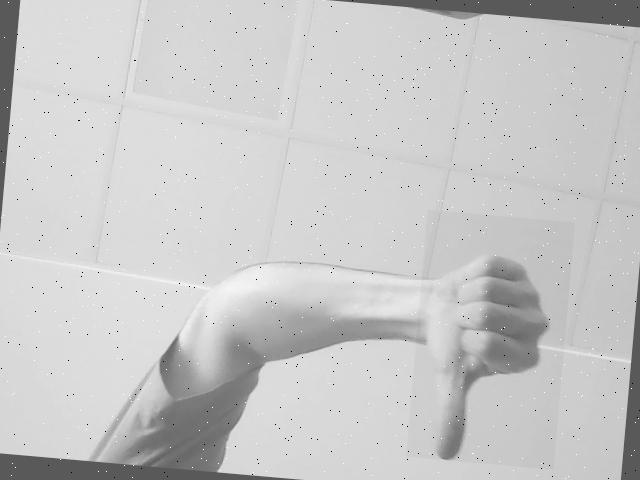bad: (405, 209, 575, 469)
